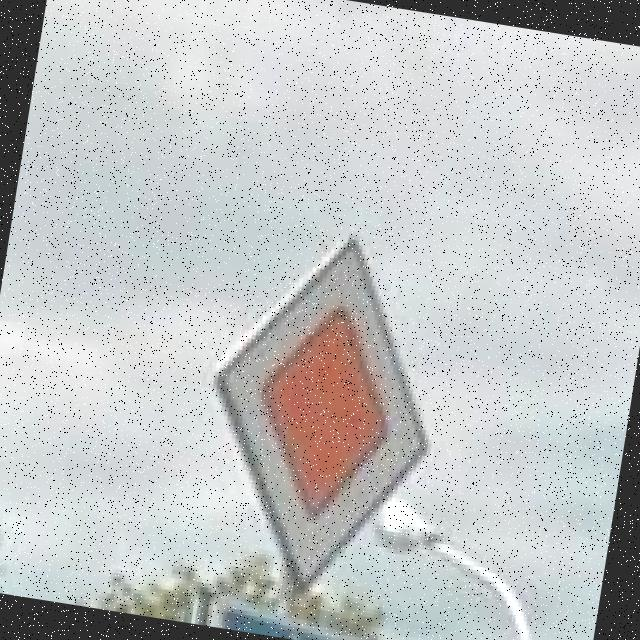Droga z pierwszenstwem: (183, 218, 462, 610)
